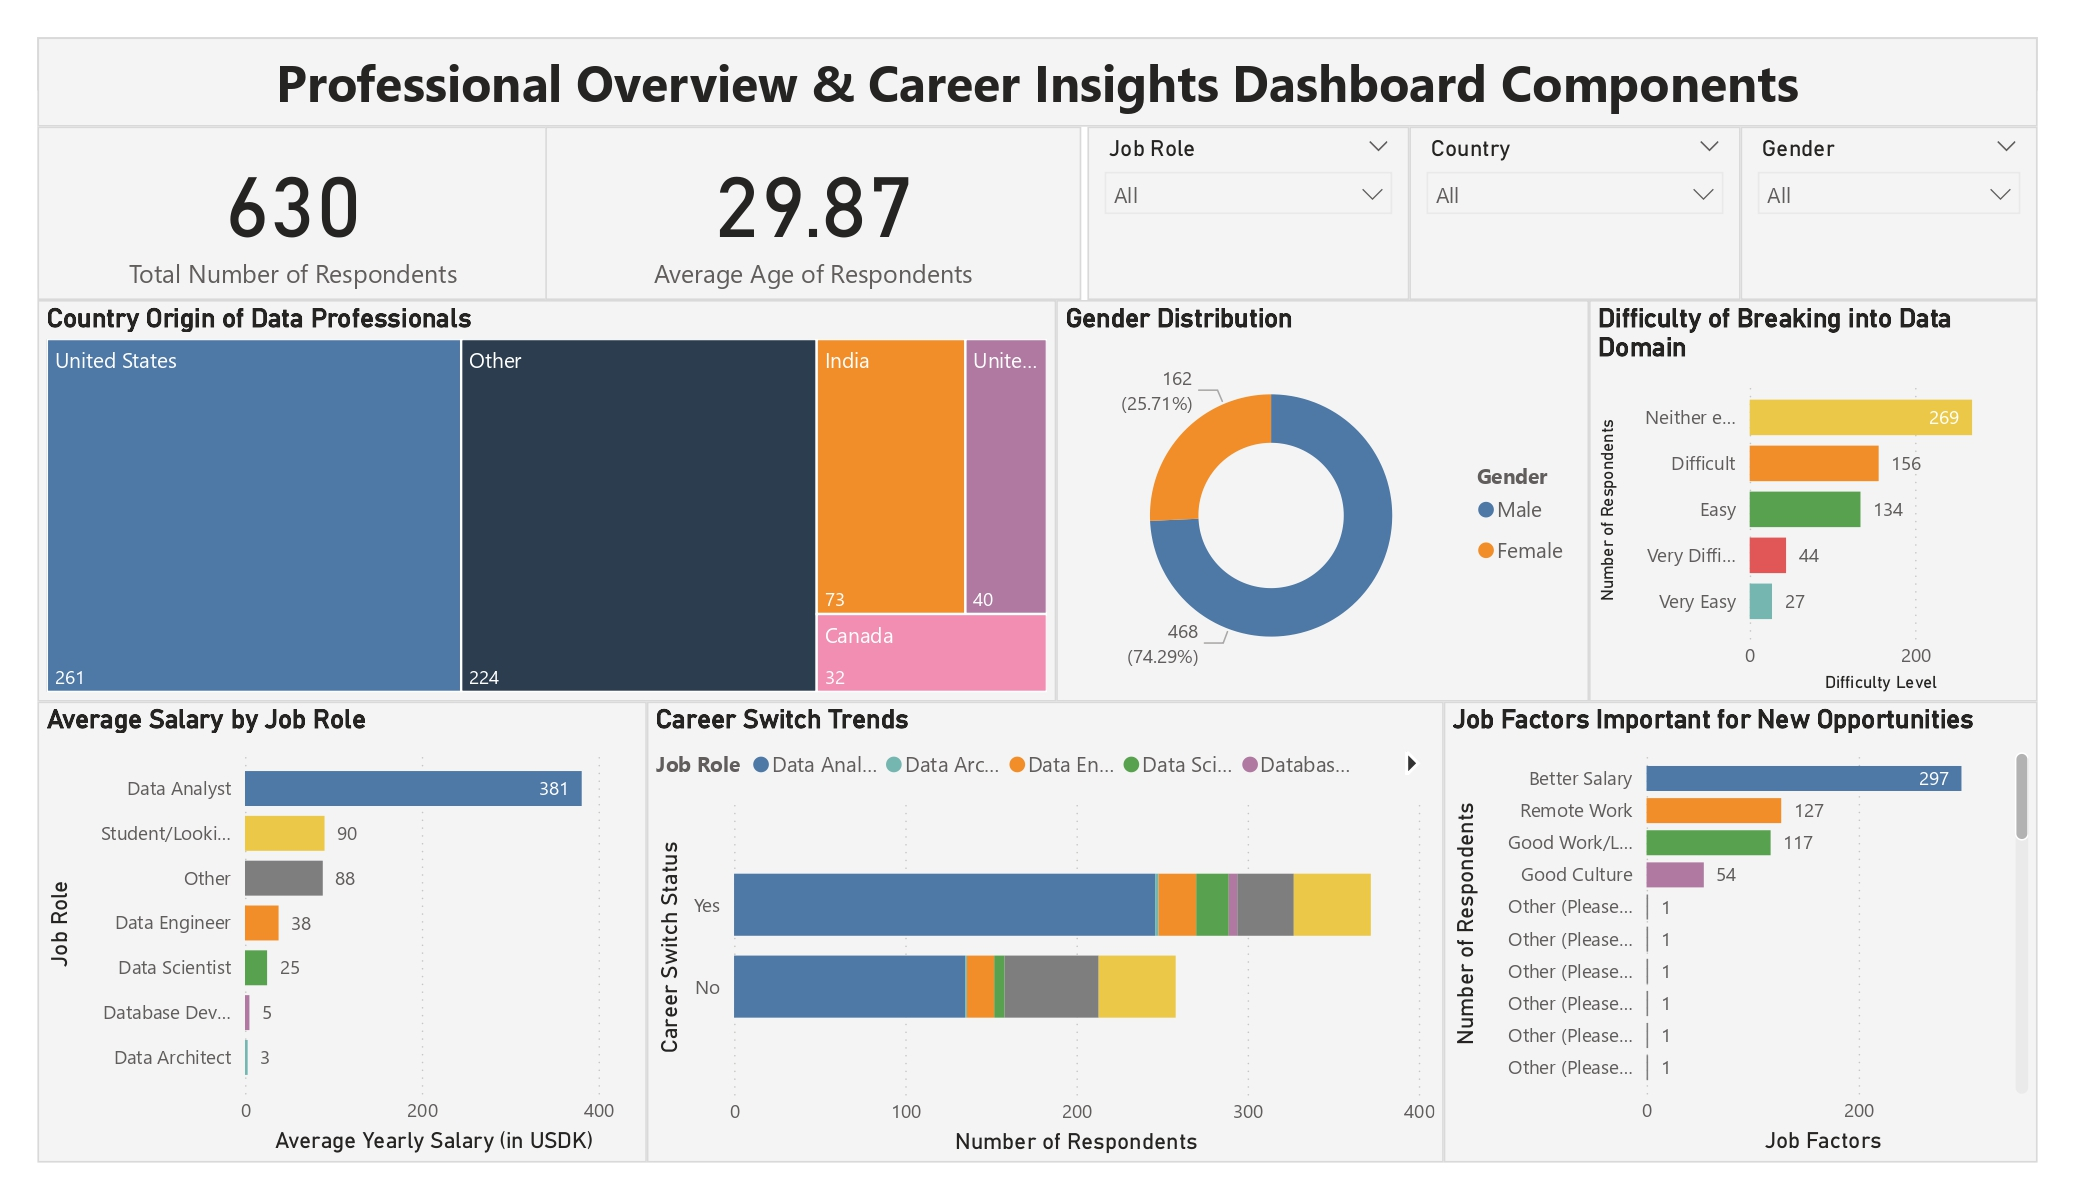

The page's visual inventory and layout, read from the dashboard file:
{"tool":"powerbi","page":{"name":"Overview","canvas":[1280,720],"ordinal":0},"visuals":[{"type":"card","fields":{"Values":["Count(Data Professional Survey.Unique ID)"]},"box":[0,56.7,326.7,111.7],"z":0},{"type":"card","fields":{"Values":["Avg(Data Professional Survey.Q10 - Current Age)"]},"box":[325,56.7,343.3,111.7],"z":1000},{"type":"treemap","title":"Country Origin of Data Professionals","fields":{"Group":["Data Professional Survey.Q11 - Which Country do you live in?"],"Values":["Count(Data Professional Survey.Unique ID)"]},"box":[0,168.3,651.7,256.7],"z":2000},{"type":"donutChart","title":"Gender Distribution","fields":{"Category":["Data Professional Survey.Q9 - Male/Female?"],"Y":["CountNonNull(Data Professional Survey.Unique ID)"]},"box":[651.7,168.3,341.7,256.7],"z":3000},{"type":"clusteredBarChart","title":"Average Salary by Job Role","fields":{"Category":["Data Professional Survey.Q1 - Which Title Best Fits your Current Role?"],"Y":["CountNonNull(Data Professional Survey.Average Salary)"]},"box":[0,425,390,295],"z":4000},{"type":"textbox","box":[0,0,1280,56.7],"z":5000},{"type":"clusteredBarChart","title":"Difficulty of Breaking into Data Domain","fields":{"Category":["Data Professional Survey.Q7 - How difficult was it for you to break into Data?"],"Y":["CountNonNull(Data Professional Survey.Unique ID)"]},"box":[993.3,168.3,286.7,256.7],"z":6000},{"type":"barChart","title":"Career Switch Trends","fields":{"Category":["Data Professional Survey.Q2 - Did you switch careers into Data?"],"Series":["Data Professional Survey.Q1 - Which Title Best Fits your Current Role?"],"Y":["CountNonNull(Data Professional Survey.Unique ID)"]},"box":[390,425,510,295],"z":7000},{"type":"clusteredBarChart","title":"Job Factors Important for New Opportunities","fields":{"Category":["Data Professional Survey.Q8 - If you were to look for a new job today, what would be the most important thing to you?"],"Y":["CountNonNull(Data Professional Survey.Unique ID)"]},"box":[900,425,380,295],"z":8000},{"type":"slicer","fields":{"Values":["Data Professional Survey.Q1 - Which Title Best Fits your Current Role?"]},"box":[671.7,56.7,206.7,111.7],"z":9000},{"type":"slicer","fields":{"Values":["Data Professional Survey.Q11 - Which Country do you live in?"]},"box":[878.3,56.7,211.7,111.7],"z":10000},{"type":"slicer","fields":{"Values":["Data Professional Survey.Q9 - Male/Female?"]},"box":[1090,56.7,190,111.7],"z":11000}]}

Visuals, with their boxes on the page's 1280x720 design canvas (x1, y1, x2, y2). These are canvas units, not pixel positions in the 2075x1200 screenshot, which may show the page scaled, cropped or inside an application window:
card - Count(Data Professional Survey.Unique ID): bbox=[0, 57, 327, 168]
card - Avg(Data Professional Survey.Q10 - Current Age): bbox=[325, 57, 668, 168]
"Country Origin of Data Professionals" treemap: bbox=[0, 168, 652, 425]
"Gender Distribution" donutChart: bbox=[652, 168, 993, 425]
"Average Salary by Job Role" clusteredBarChart: bbox=[0, 425, 390, 720]
textbox: bbox=[0, 0, 1280, 57]
"Difficulty of Breaking into Data Domain" clusteredBarChart: bbox=[993, 168, 1280, 425]
"Career Switch Trends" barChart: bbox=[390, 425, 900, 720]
"Job Factors Important for New Opportunities" clusteredBarChart: bbox=[900, 425, 1280, 720]
slicer - Data Professional Survey.Q1 - Which Title Best Fits your Current Role?: bbox=[672, 57, 878, 168]
slicer - Data Professional Survey.Q11 - Which Country do you live in?: bbox=[878, 57, 1090, 168]
slicer - Data Professional Survey.Q9 - Male/Female?: bbox=[1090, 57, 1280, 168]
